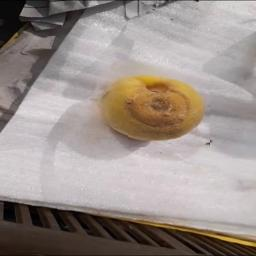Peach Rotten: (92, 66, 210, 147)
